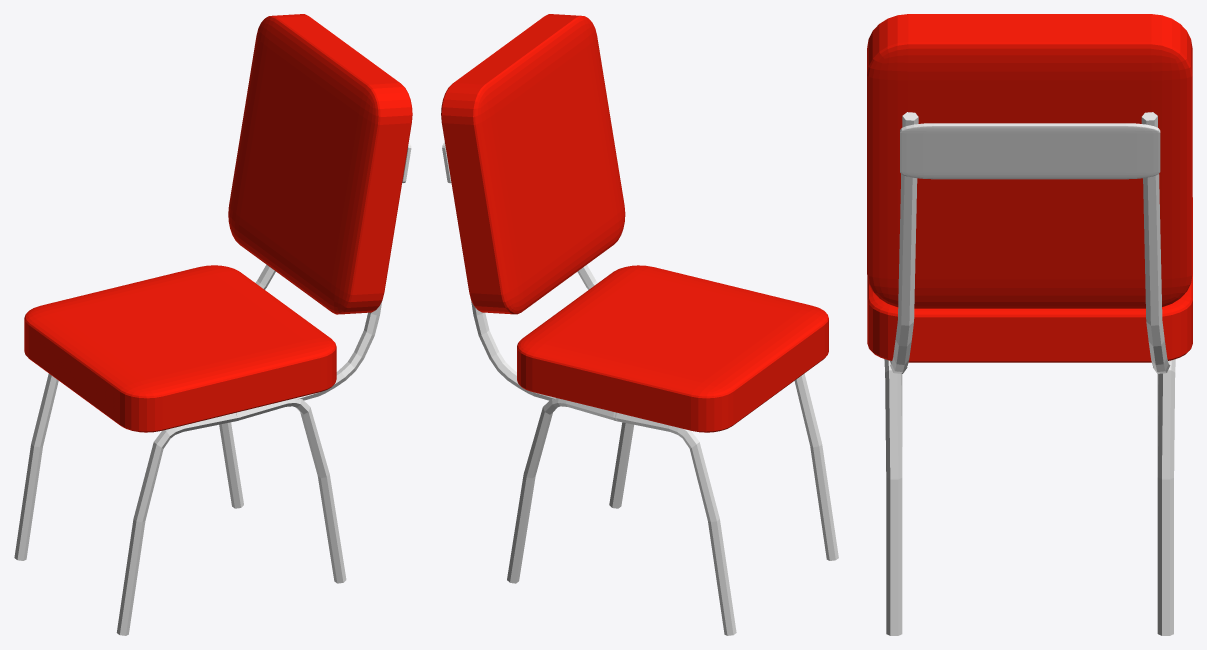
The model's file is Chair.fbx.
3 renders of one model, left to right at view 1: azimuth 30°, elevation 25°; view 2: azimuth 150°, elevation 25°; view 3: azimuth 270°, elevation 25°, orthographic. The views are drawn at different scales.
Parts seen in each view (by area): view 1: Cube.001, Cube, Cylinder, Cylinder.001; view 2: Cube.001, Cube, Cylinder, Cylinder.001; view 3: Cube.001, Cube, Cube.002, Cylinder, Cylinder.001.
Boxes of the visible parts, x1=… form: Cube.001: x1=228, y1=14, x2=412, y2=314; Cube: x1=24, y1=265, x2=336, y2=432; Cylinder: x1=14, y1=373, x2=346, y2=635; Cylinder.001: x1=255, y1=264, x2=381, y2=400; Cube.001: x1=441, y1=14, x2=625, y2=314; Cube: x1=517, y1=265, x2=828, y2=432; Cylinder: x1=507, y1=373, x2=838, y2=635; Cylinder.001: x1=471, y1=265, x2=597, y2=400; Cube.001: x1=867, y1=14, x2=1192, y2=308; Cube: x1=867, y1=197, x2=1192, y2=362; Cube.002: x1=900, y1=123, x2=1160, y2=179; Cylinder: x1=884, y1=359, x2=1175, y2=635; Cylinder.001: x1=890, y1=112, x2=1170, y2=373.
Bounding box in the file's own units: 279 × 436 × 200.
